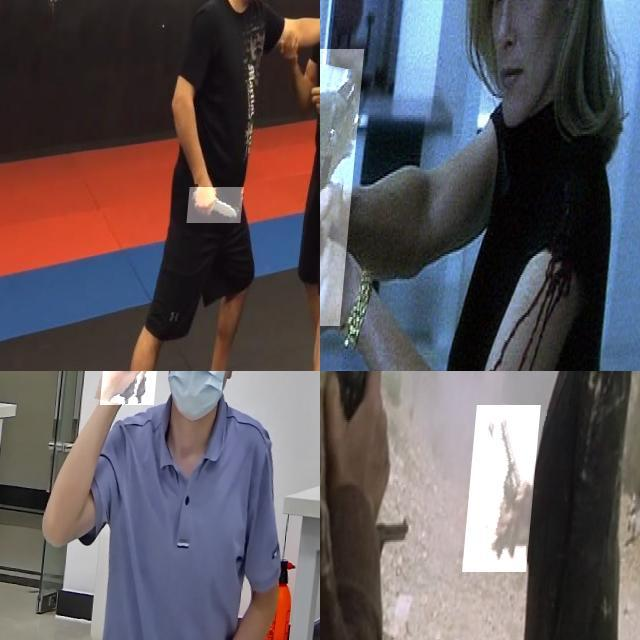-: (195, 187, 252, 223)
gun-knife-thesis - v11 Yolov5 augmented: (320, 49, 425, 325), (320, 371, 424, 562), (472, 405, 548, 572), (106, 371, 170, 442)
